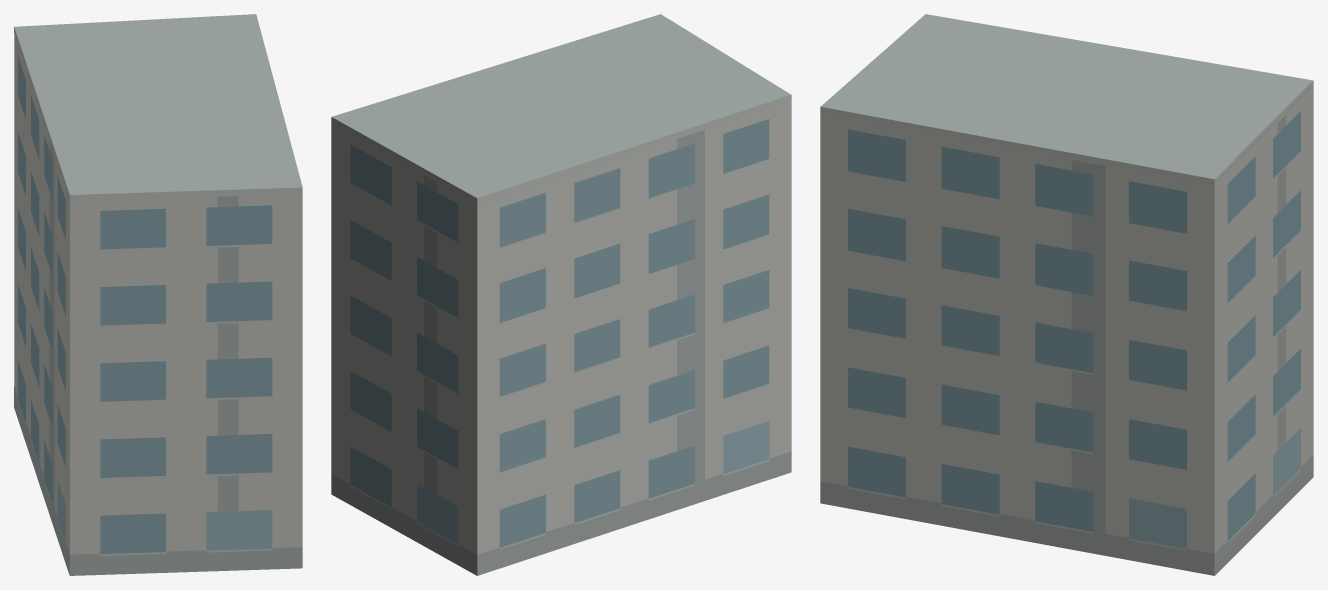
Rendered from survey-upis-32569479.glb.
3 renders of one model, left to right at view 1: azimuth 30°, elevation 25°; view 2: azimuth 150°, elevation 25°; view 3: azimuth 270°, elevation 25°, orthographic. The views are drawn at different scales.
Visible parts, largest first — view 1: survey-upis-32569479.tmp; view 2: survey-upis-32569479.tmp; view 3: survey-upis-32569479.tmp.
Part boxes in pixels (<box>): survey-upis-32569479.tmp: <box>14,14,302,575</box>; survey-upis-32569479.tmp: <box>331,14,791,575</box>; survey-upis-32569479.tmp: <box>820,14,1313,575</box>.
Size of the model in its own units: 12.7 by 14.2 by 16.01.
